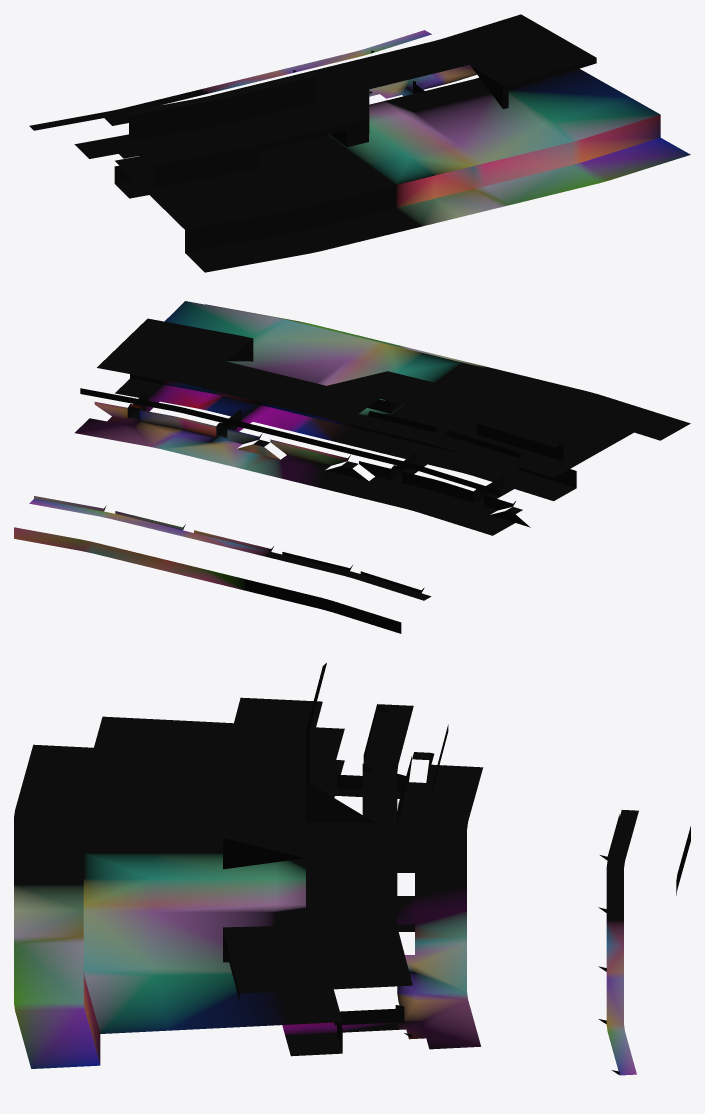
3 views of the same model, one above another, from view 1: azimuth 30°, elevation 25°; view 2: azimuth 150°, elevation 25°; view 3: azimuth 270°, elevation 25° (orthographic). The views are drawn at different scales.
Parts seen in each view (by area): view 1: Base_06; view 2: Base_06; view 3: Base_06.
Part boxes in pixels (x1,y1,x2,y2): Base_06: (29,14,690,272); Base_06: (14,301,690,633); Base_06: (14,663,690,1075).
Bounding box in the file's own units: 113 × 26.88 × 99.44.
